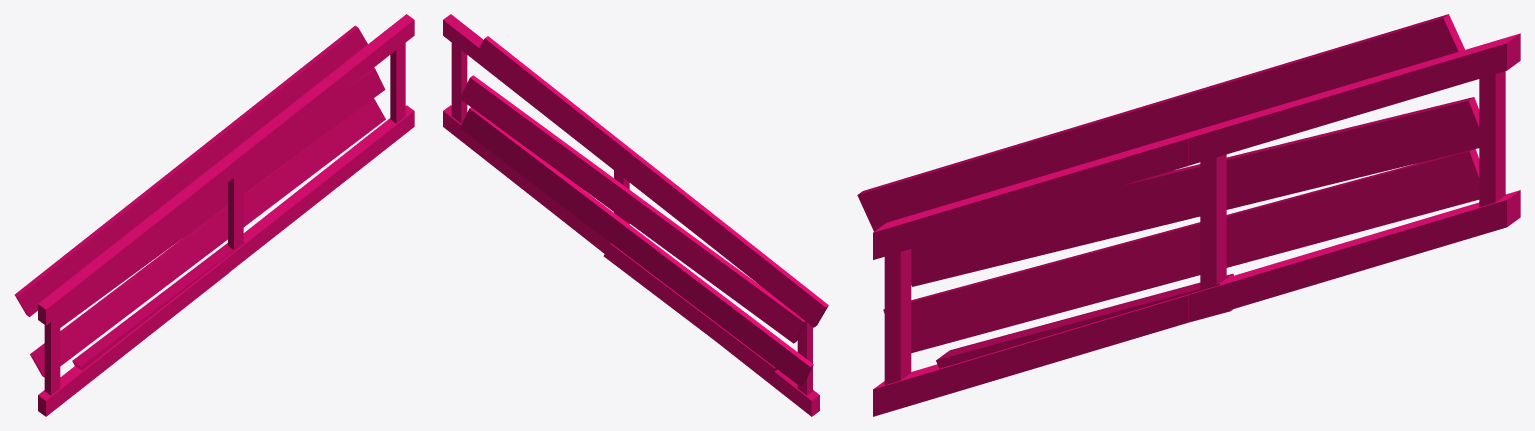
File: Bastion_Fence_06_Lod0.fbx
3 views of the same model, side by side, from view 1: azimuth 30°, elevation 25°; view 2: azimuth 150°, elevation 25°; view 3: azimuth 330°, elevation 25° (orthographic). The views are drawn at different scales.
Parts seen in each view (by area): view 1: Bastion_Fence_06_Lod0; view 2: Bastion_Fence_06_Lod0; view 3: Bastion_Fence_06_Lod0.
Boxes of the visible parts, x1,y1,x2,y2 form: Bastion_Fence_06_Lod0: (14, 14, 414, 416); Bastion_Fence_06_Lod0: (443, 14, 828, 416); Bastion_Fence_06_Lod0: (857, 14, 1520, 416).
Size of the model in its own units: 315 by 238 by 18.16.
